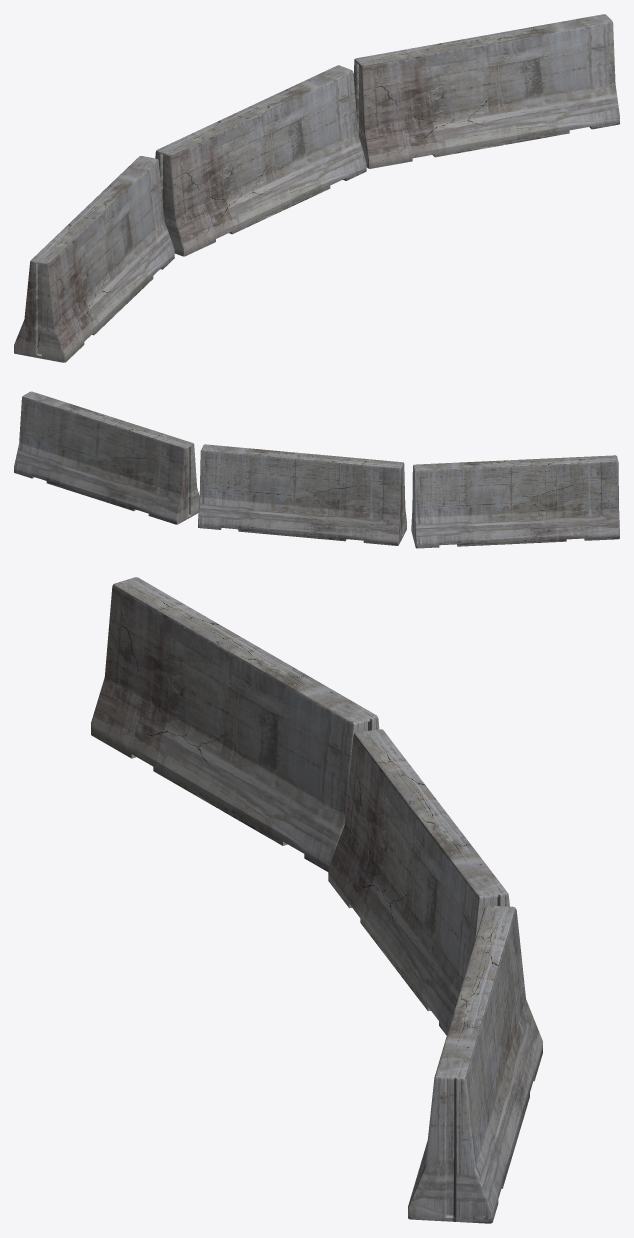
Rendered from City_Barricade004.fbx.
3 renders of one model, top to bottom at view 1: azimuth 30°, elevation 25°; view 2: azimuth 150°, elevation 25°; view 3: azimuth 270°, elevation 25°, orthographic. The views are drawn at different scales.
Visible parts, largest first — view 1: City_Barricade_004:Barricade_004; view 2: City_Barricade_004:Barricade_004; view 3: City_Barricade_004:Barricade_004.
Boxes of the visible parts, <box> form: City_Barricade_004:Barricade_004: <box>14,14,619,362</box>; City_Barricade_004:Barricade_004: <box>14,391,619,548</box>; City_Barricade_004:Barricade_004: <box>91,577,542,1223</box>.
Bounding box in the file's own units: 875 × 115 × 328.
Materials: 1 (1 with a texture image).
